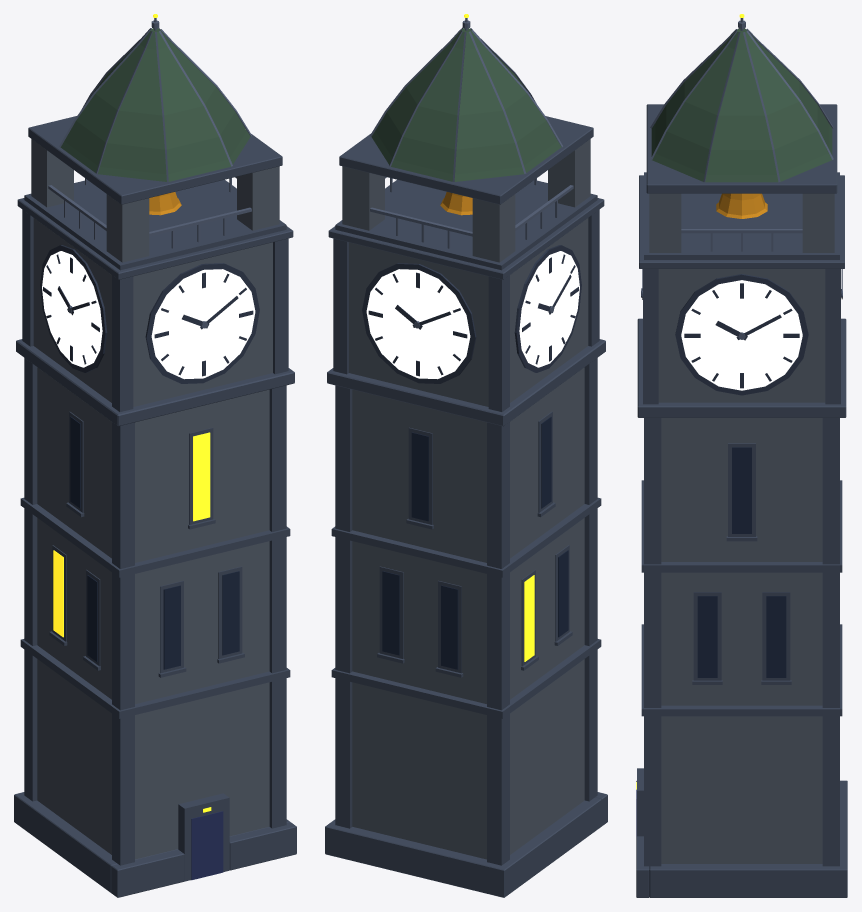
File: roof_clock_tower.glb
3 views of the same model, side by side, from view 1: azimuth 30°, elevation 25°; view 2: azimuth 150°, elevation 25°; view 3: azimuth 270°, elevation 25° (orthographic).
Visible parts, largest first — view 1: tower, stonework, helmet, dial, window, dial_marks, metalwork, lit_window, door, bell; view 2: tower, stonework, helmet, dial, window, dial_marks, metalwork, lit_window, bell; view 3: tower, stonework, helmet, dial, window, dial_marks, metalwork, bell.
Boxes of the visible parts, box(x1,y1,x2,y2) form: tower: box(31, 139, 279, 859); stonework: box(14, 116, 296, 897); helmet: box(60, 28, 250, 181); dial: box(42, 251, 255, 379); window: box(70, 416, 239, 669); dial_marks: box(40, 245, 259, 383); metalwork: box(48, 18, 251, 328); lit_window: box(53, 14, 211, 812); door: box(191, 811, 223, 880); bell: box(149, 192, 181, 215); tower: box(342, 139, 590, 859); stonework: box(325, 116, 607, 897); helmet: box(371, 28, 561, 181); dial: box(366, 251, 579, 379); window: box(382, 416, 568, 669); dial_marks: box(362, 245, 581, 383); metalwork: box(370, 18, 573, 328); lit_window: box(464, 14, 534, 661); bell: box(440, 192, 472, 215); tower: box(649, 193, 834, 863); stonework: box(636, 104, 847, 897); helmet: box(651, 28, 832, 182); dial: box(681, 280, 802, 390); window: box(697, 447, 786, 677); dial_marks: box(641, 269, 842, 395); metalwork: box(641, 18, 842, 339); bell: box(716, 193, 767, 218).
Size of the model in its own units: 8 by 35 by 8.
